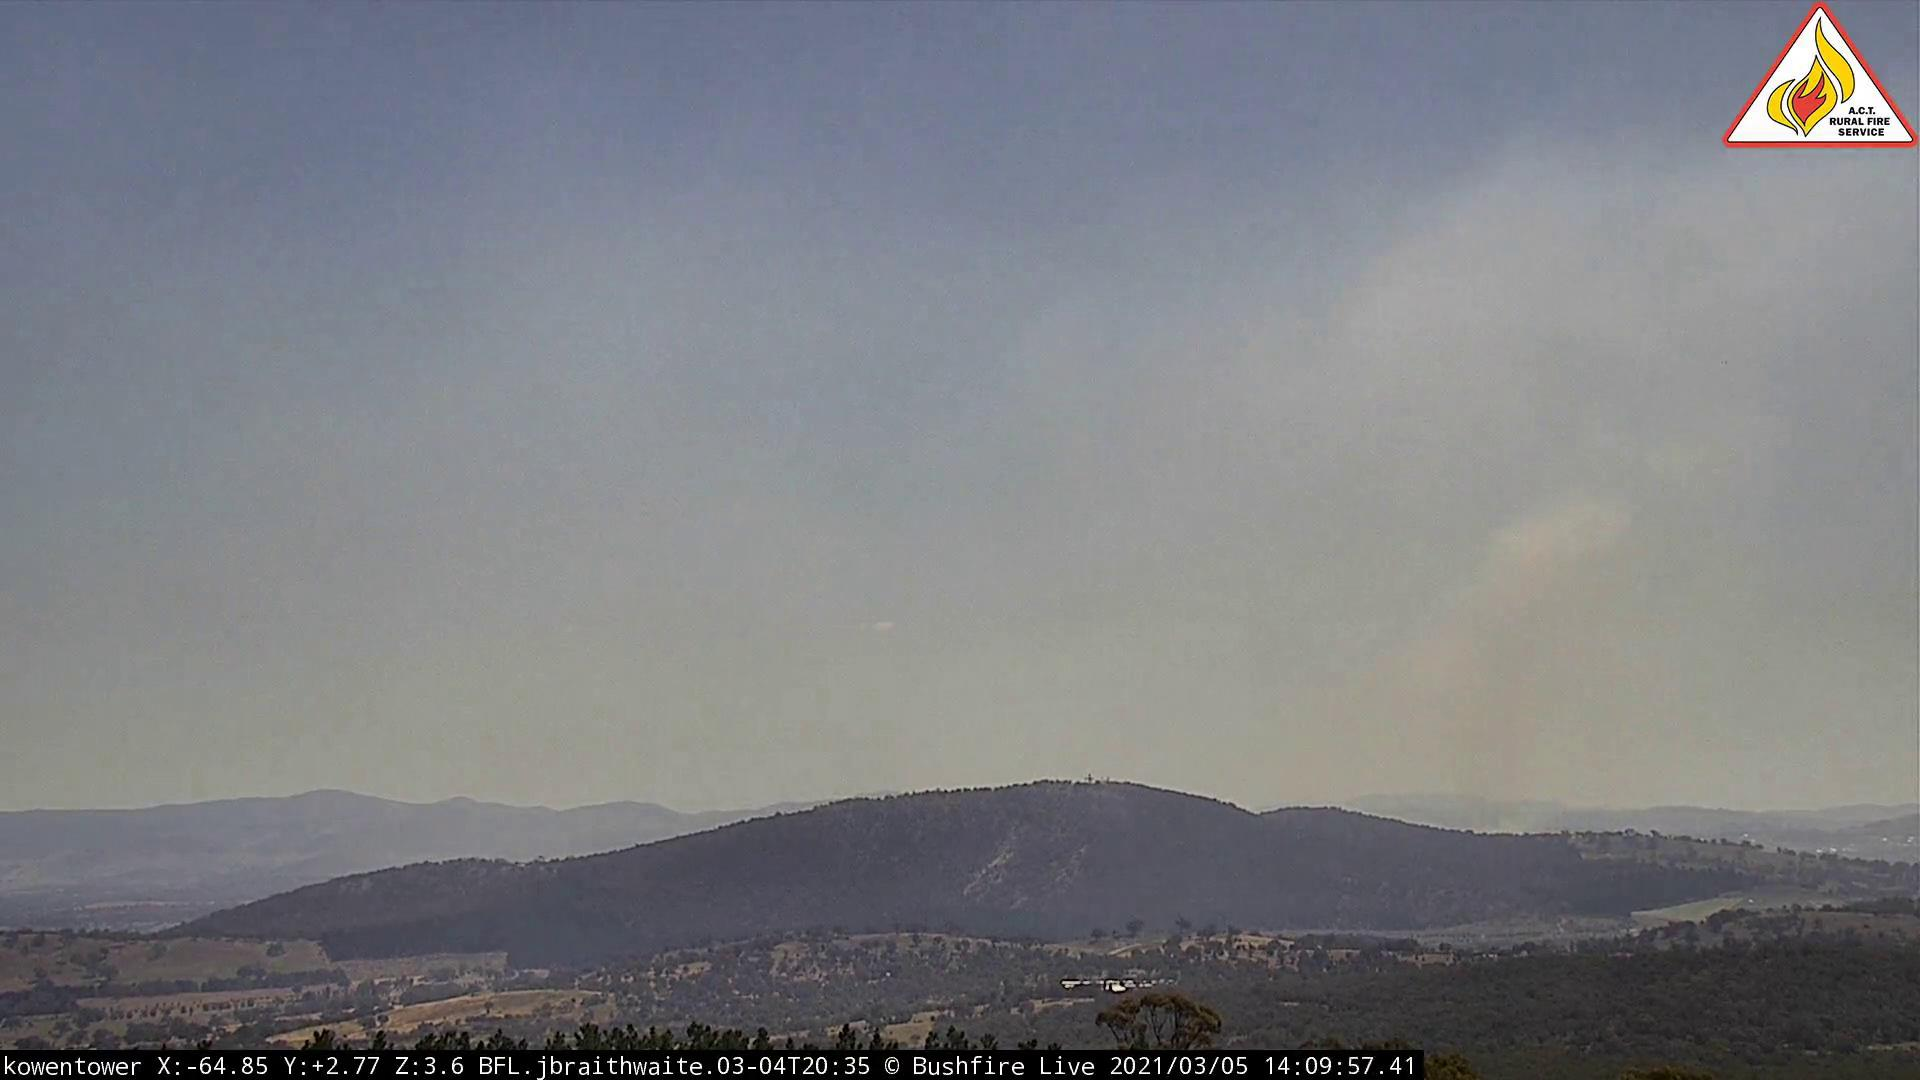Smoke: (1278, 508, 1646, 844)
